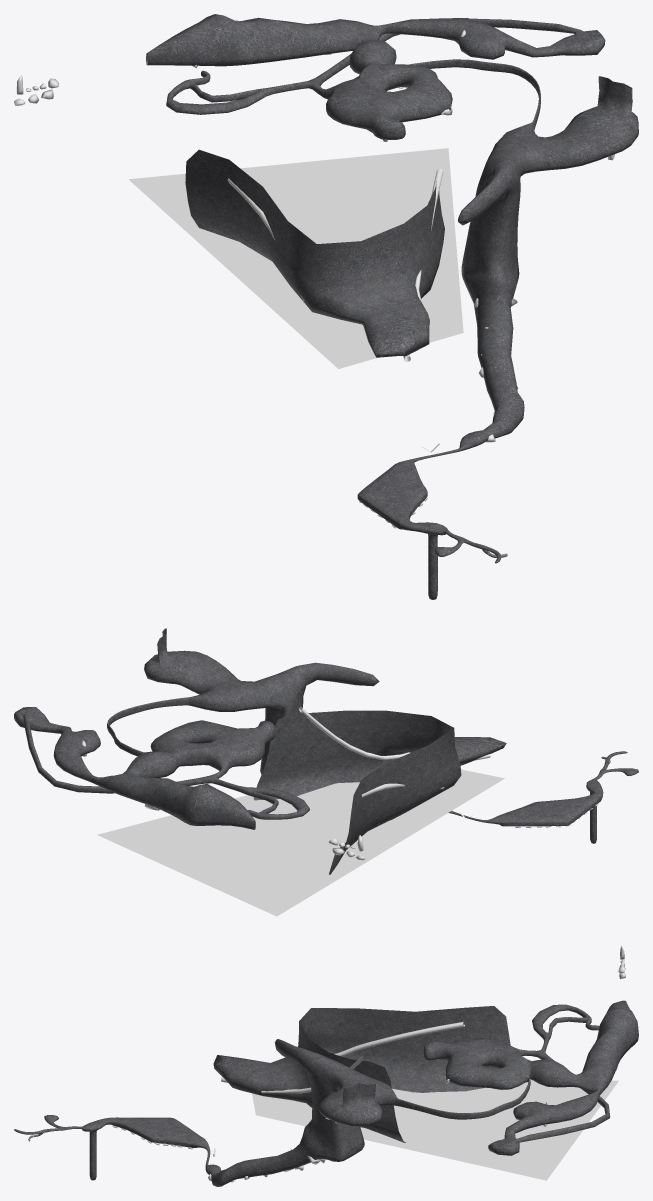
Rendered from Cave.fbx.
3 renders of one model, top to bottom at view 1: azimuth 30°, elevation 25°; view 2: azimuth 150°, elevation 25°; view 3: azimuth 270°, elevation 25°, orthographic. The views are drawn at different scales.
Parts seen in each view (by area): view 1: Cave_sclpt.002, Cube.001, Cube.004; view 2: Cave_sclpt.002, Cube.001, Cube.004, Cylinder; view 3: Cave_sclpt.002, Cube.004, Cube.001, Cylinder.
Boxes of the visible parts, left/top/right/bottom form: Cave_sclpt.002: left=146, top=14, right=638, bottom=599; Cube.001: left=128, top=148, right=463, bottom=368; Cube.004: left=185, top=149, right=444, bottom=357; Cave_sclpt.002: left=14, top=628, right=638, bottom=843; Cube.001: left=97, top=769, right=504, bottom=916; Cube.004: left=253, top=710, right=506, bottom=874; Cylinder: left=299, top=706, right=490, bottom=797; Cave_sclpt.002: left=14, top=1000, right=638, bottom=1186; Cube.004: left=213, top=1006, right=510, bottom=1142; Cube.001: left=252, top=1079, right=618, bottom=1180; Cylinder: left=221, top=1021, right=464, bottom=1093.
Size of the model in its own units: 14495 by 8198 by 20405.
